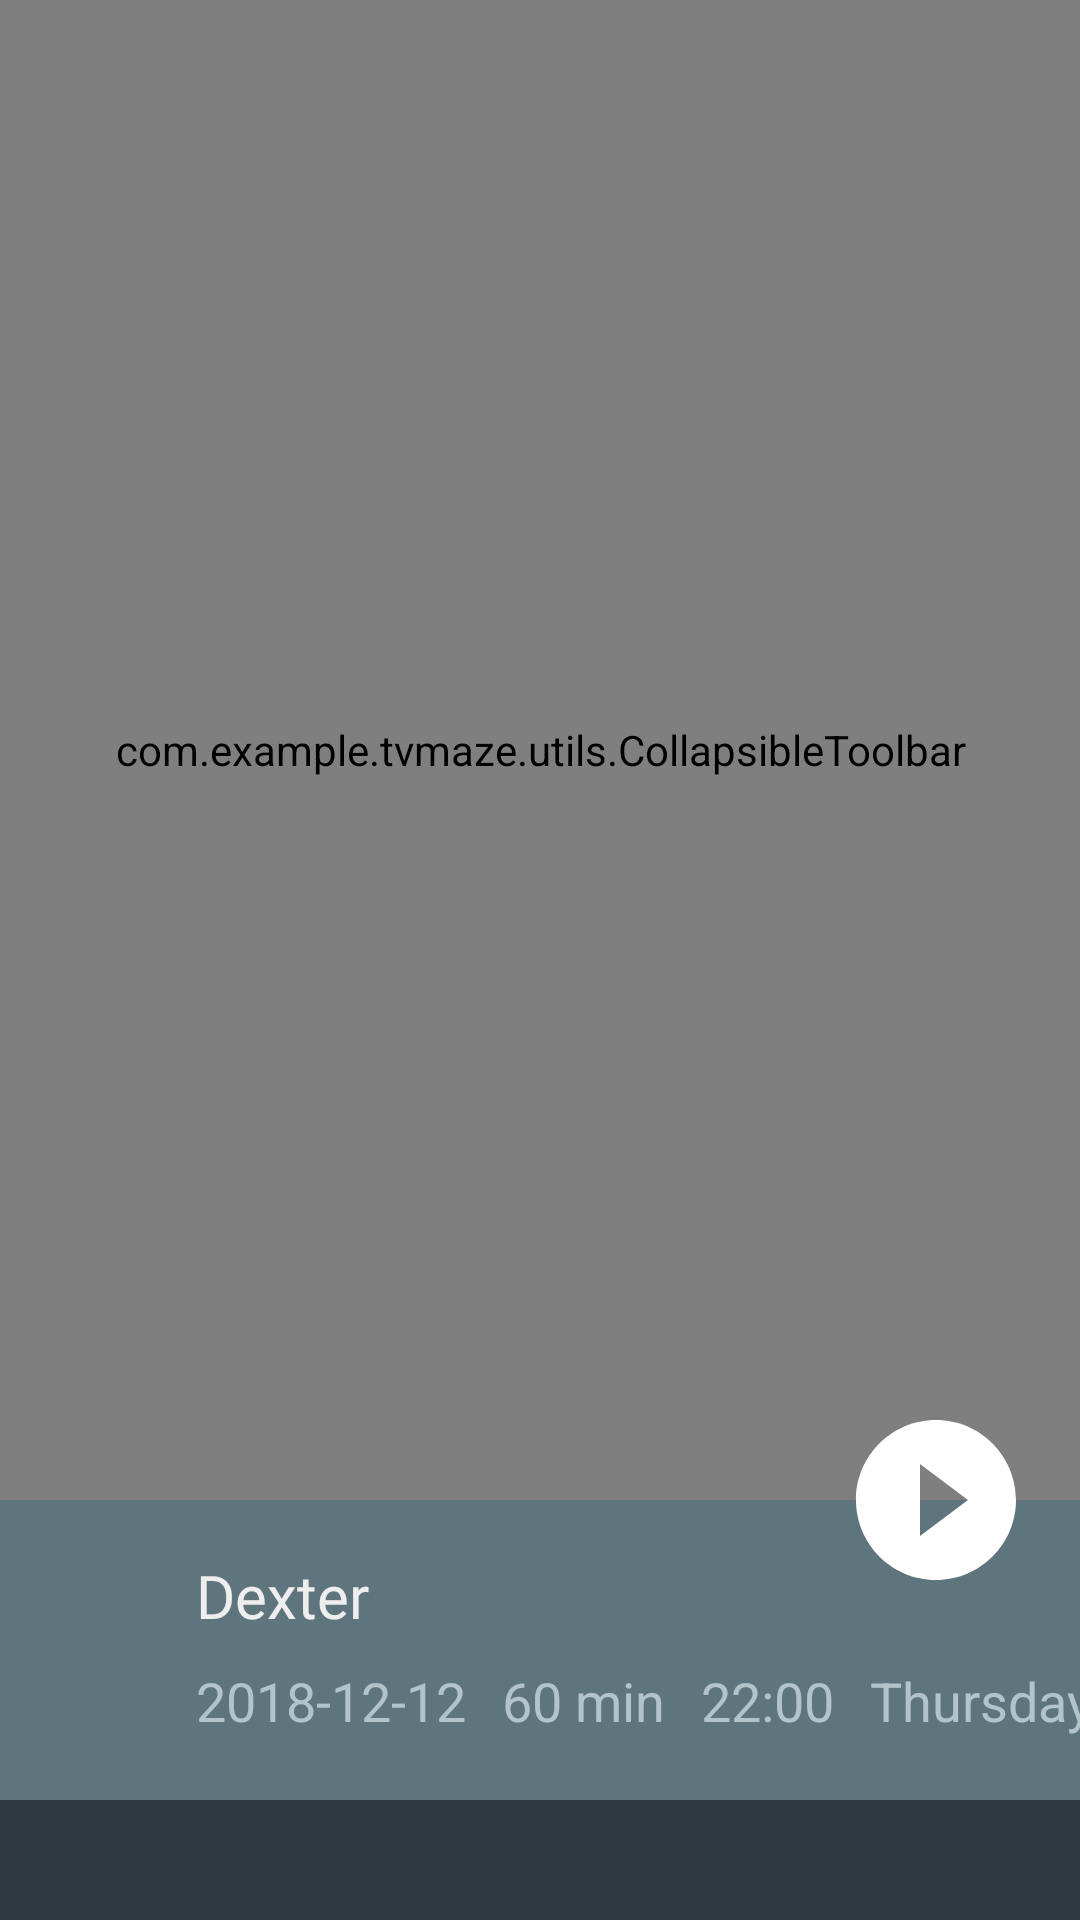

Named icons in this screenshot (1080 x 1920) and their centers, [x,y]:
play circle: [936,1500]
